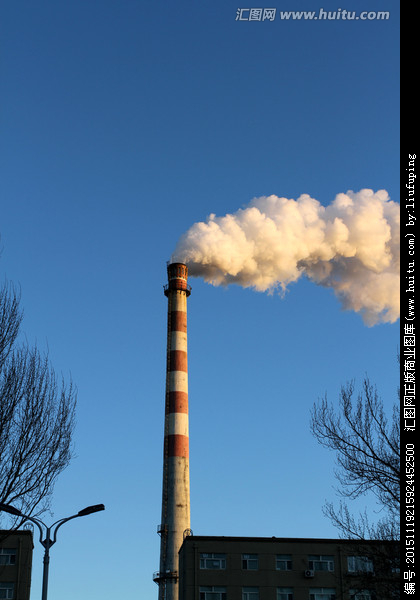dust: (151, 163, 395, 305)
